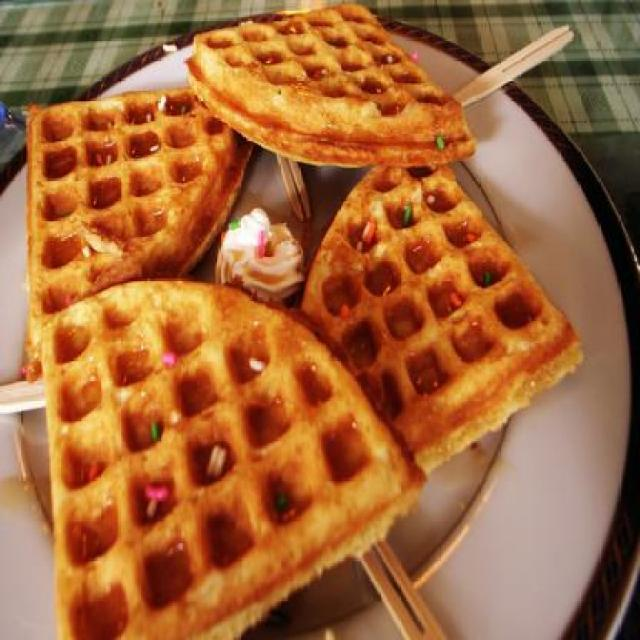Waffle: (53, 278, 424, 640), (296, 166, 586, 477), (20, 97, 256, 386), (183, 0, 474, 169)
